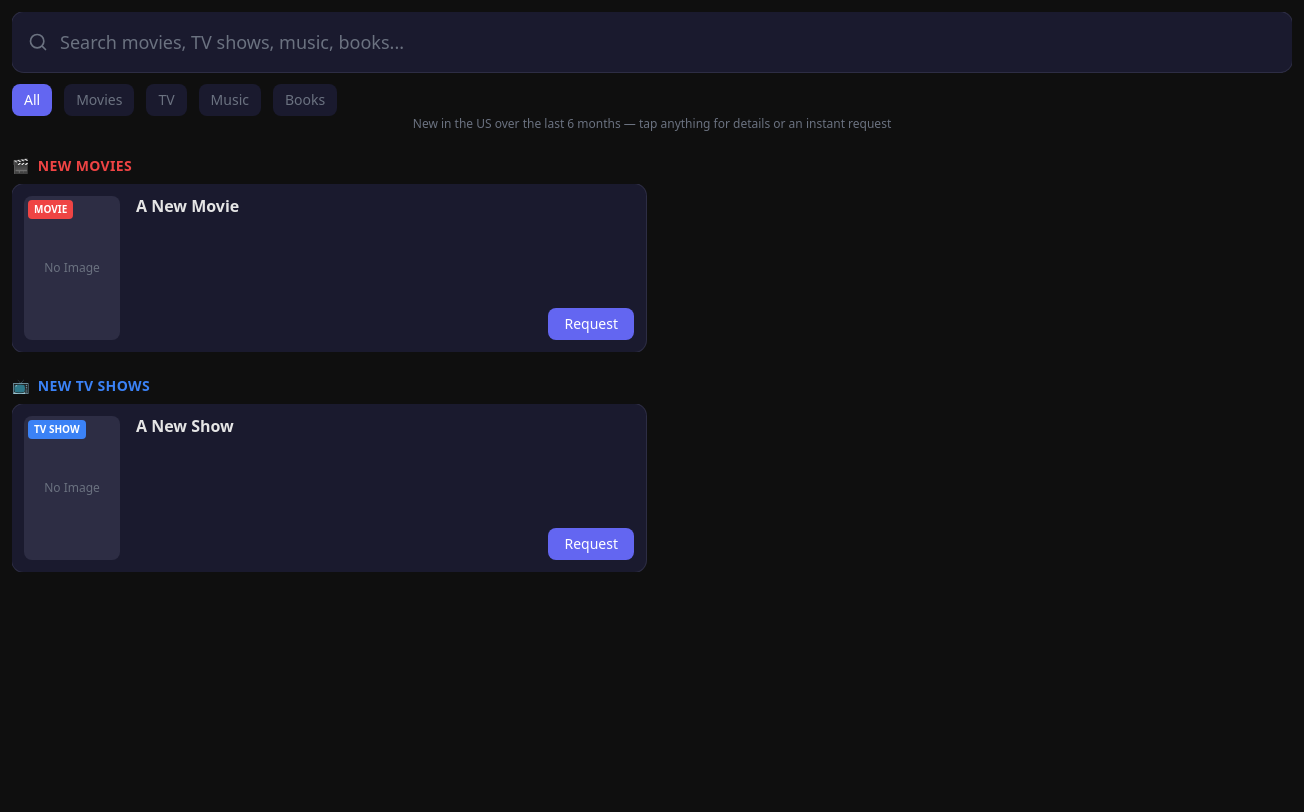
Scenario: category chips filter the home feed › falls back to the search hint when a list comes back empty or fails
Expected: the heading "A New Movie" is shown, [136,195,239,217]
Click the button "Music": (230, 100) [199,84,261,116]
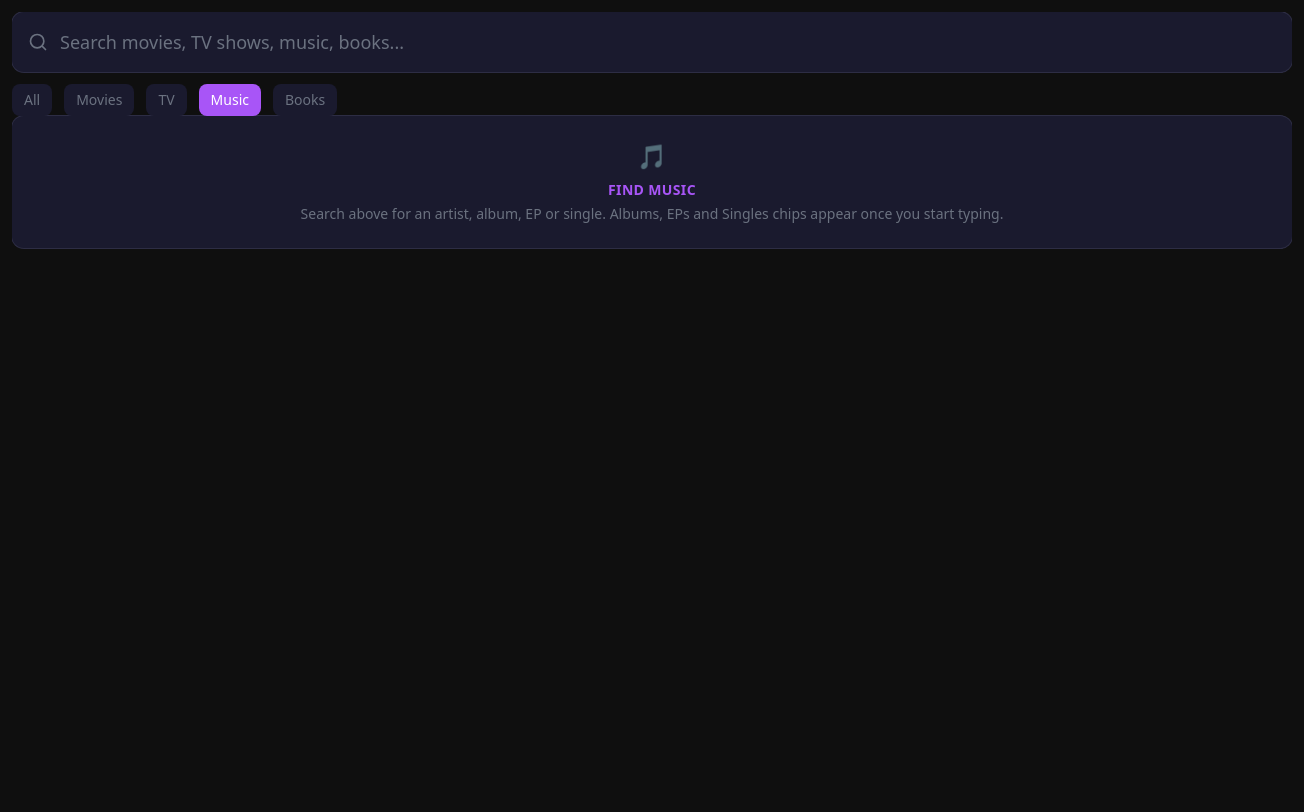
Expected: the heading "Find music" is shown, [608,180,696,199]
Click the button "Books": (305, 100) [273,84,337,116]
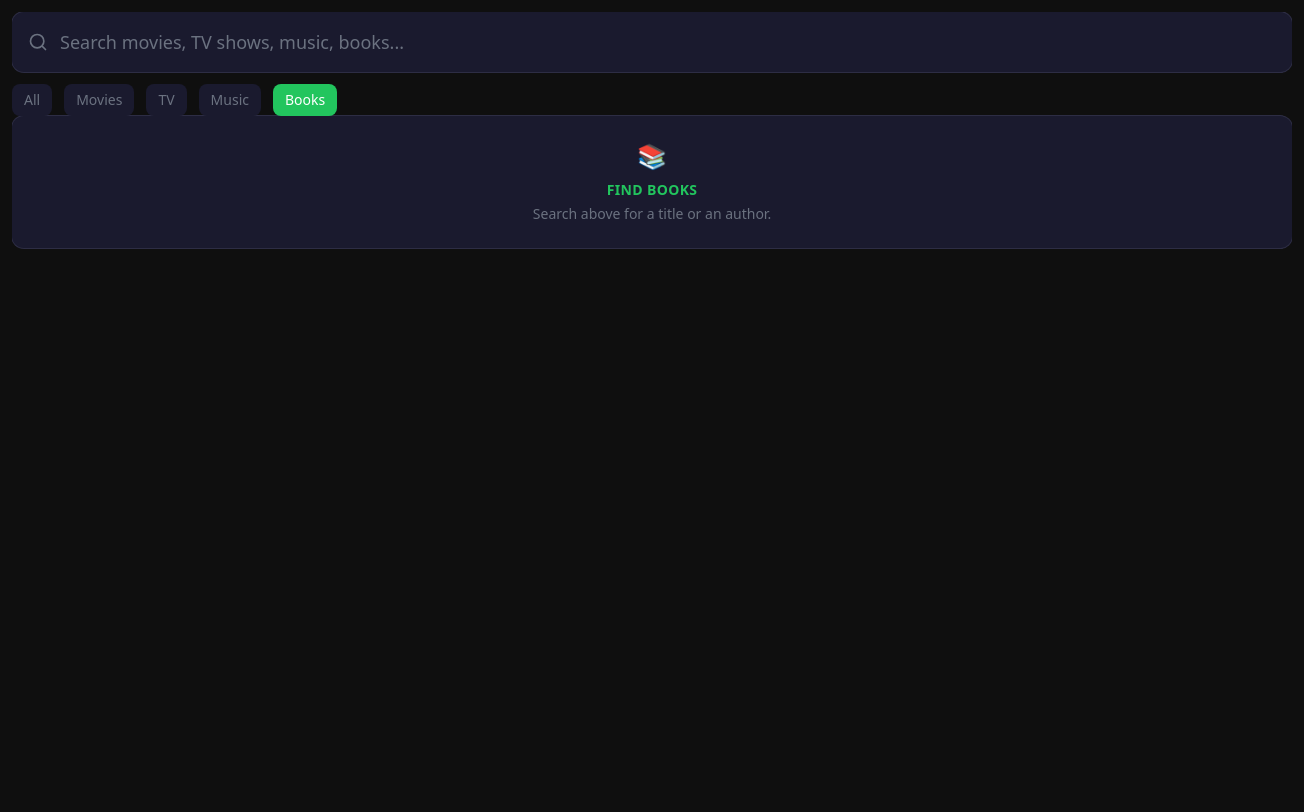
Expected: the heading "Find books" is shown, [607,180,697,199]
